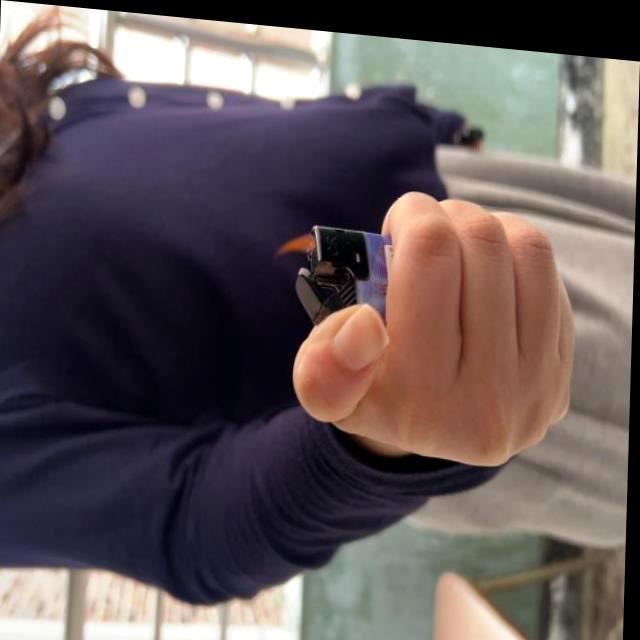fire: (274, 222, 318, 258)
